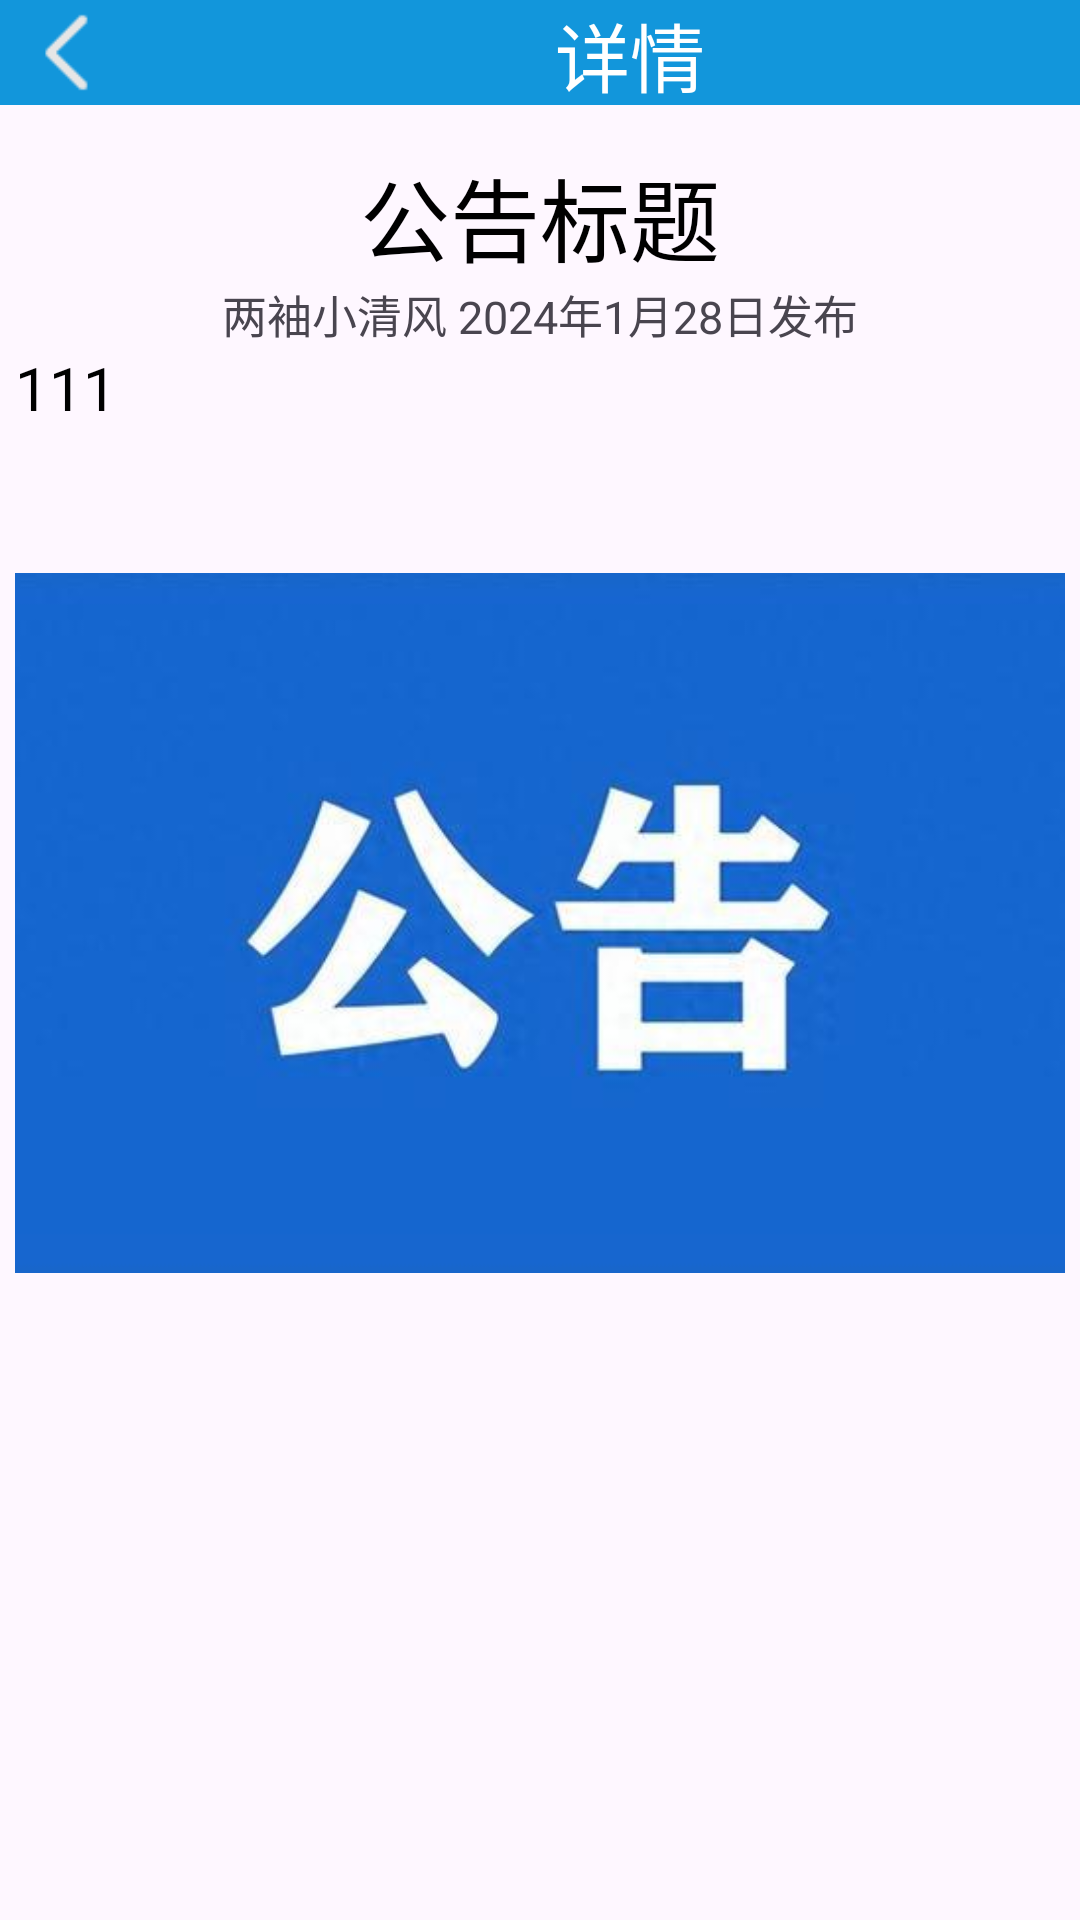

Locate icon controls on the screen. Image size 1080w x 1920h, boxes as BBox(x1, y1, x2, y2).
back: BBox(45, 15, 88, 90)
